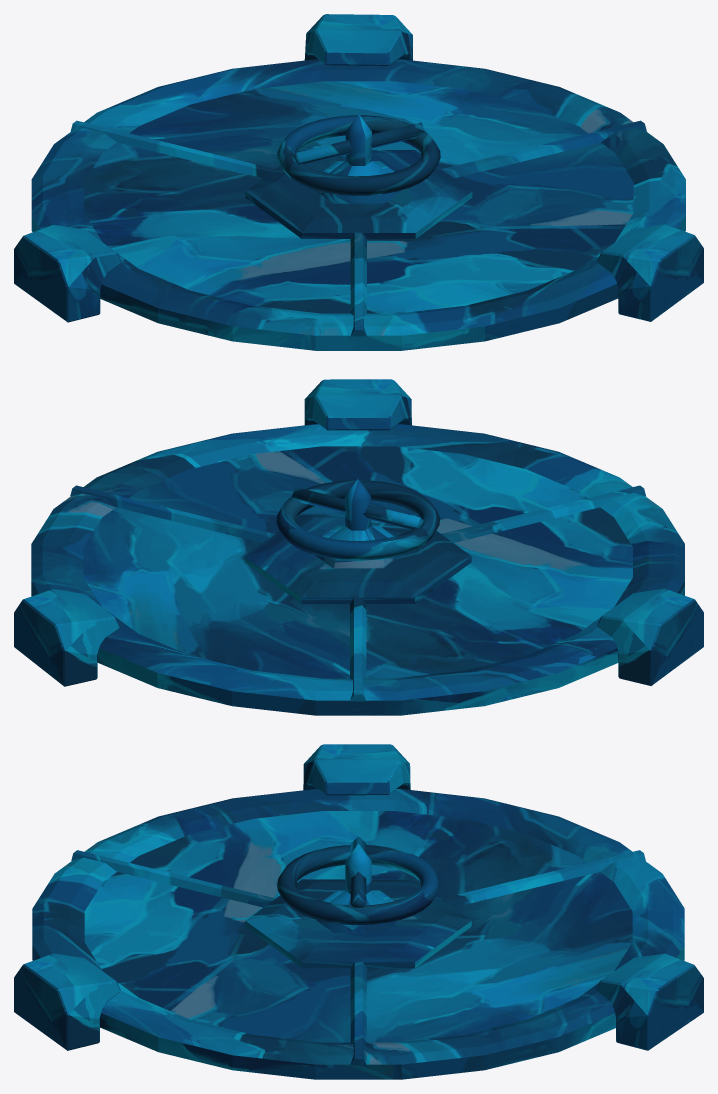
File: SM_PuzzleLocked_01.fbx
3 views of the same model, one above another, from view 1: azimuth 30°, elevation 25°; view 2: azimuth 150°, elevation 25°; view 3: azimuth 270°, elevation 25° (orthographic).
Visible parts, largest first — view 1: ManaCircleBase, Cube, ManaCirclePlate, Torus.001, SM_PuzzelHandle_01, ManaChannel1, ManaChannel3, ManaChannel2; view 2: ManaCircleBase, Cube, ManaCirclePlate, Torus.001, SM_PuzzelHandle_01, ManaChannel2, ManaChannel1, ManaChannel3; view 3: ManaCircleBase, Cube, ManaCirclePlate, Torus.001, SM_PuzzelHandle_01, ManaChannel3, ManaChannel2, ManaChannel1.
Boxes of the visible parts, left/top/right/bottom form: ManaCircleBase: left=31, top=59, right=685, bottom=350; Cube: left=14, top=14, right=703, bottom=322; ManaCirclePlate: left=245, top=150, right=472, bottom=238; Torus.001: left=277, top=115, right=440, bottom=195; SM_PuzzelHandle_01: left=292, top=114, right=425, bottom=203; ManaChannel1: left=442, top=120, right=646, bottom=178; ManaChannel3: left=70, top=120, right=275, bottom=178; ManaChannel2: left=350, top=232, right=366, bottom=336; ManaCircleBase: left=31, top=424, right=684, bottom=715; Cube: left=14, top=379, right=703, bottom=686; ManaCirclePlate: left=244, top=514, right=471, bottom=603; Torus.001: left=276, top=480, right=439, bottom=560; SM_PuzzelHandle_01: left=291, top=479, right=424, bottom=568; ManaChannel2: left=441, top=485, right=645, bottom=542; ManaChannel1: left=70, top=485, right=274, bottom=542; ManaChannel3: left=350, top=597, right=366, bottom=701; ManaCircleBase: left=32, top=789, right=684, bottom=1079; Cube: left=14, top=744, right=703, bottom=1050; ManaCirclePlate: left=245, top=879, right=471, bottom=968; Torus.001: left=277, top=845, right=440, bottom=925; SM_PuzzelHandle_01: left=316, top=836, right=400, bottom=932; ManaChannel3: left=441, top=850, right=645, bottom=907; ManaChannel2: left=71, top=850, right=275, bottom=907; ManaChannel1: left=350, top=962, right=366, bottom=1065.
Bounding box in the file's own units: 4.25 × 0.7495 × 4.21.
